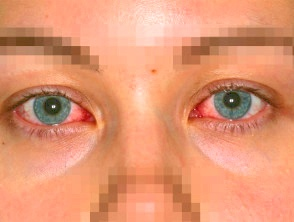SJS-TEN: (183, 125, 294, 222), (30, 0, 294, 37), (0, 133, 108, 222)
